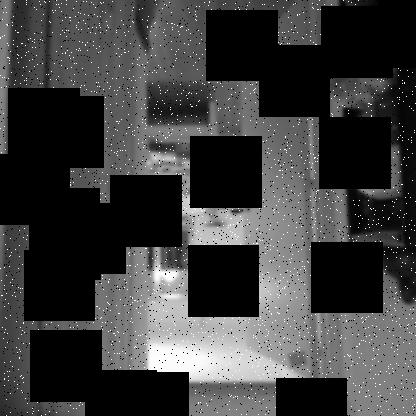Porte: (104, 1, 344, 410)
